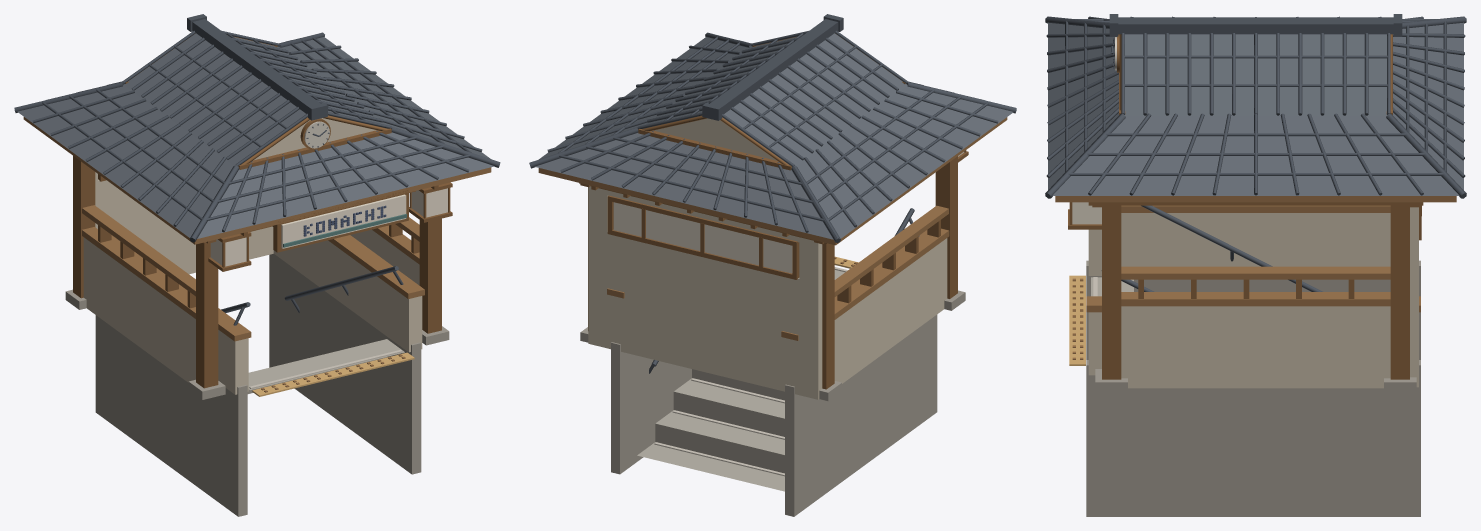
File: komachi-subway-station.glb
The picture shows the model from 3 angles, left to right: view 1: azimuth 30°, elevation 25°; view 2: azimuth 150°, elevation 25°; view 3: azimuth 270°, elevation 25°; orthographic projection. The views are drawn at different scales.
Visible parts, largest first — view 1: Kawara_Hip_And_Gable_Roof, Stairwell_Sides_And_Rails, Pavilion_Frame, Open_Descending_Stairs, Name_Board, Eaves_And_Ceiling, Station_Name_Lettering, Name_Board_Frame, Lamp_R, Lamp_L, Clock_Face, Lamp_R_Frame (+1 smaller); view 2: Kawara_Hip_And_Gable_Roof, Pavilion_Frame, Stairwell_Sides_And_Rails, Open_Descending_Stairs, Window_Band, Window_Frame, Eaves_And_Ceiling; view 3: Kawara_Hip_And_Gable_Roof, Stairwell_Sides_And_Rails, Pavilion_Frame, Eaves_And_Ceiling, Lamp_R.
Boxes of the visible parts, x1,y1,x2,y2 form: Kawara_Hip_And_Gable_Roof: (14,14,500,242); Stairwell_Sides_And_Rails: (95,235,424,516); Pavilion_Frame: (65,156,449,399); Open_Descending_Stairs: (247,339,404,393); Name_Board: (281,194,406,248); Eaves_And_Ceiling: (23,117,491,244); Station_Name_Lettering: (283,205,406,247); Name_Board_Frame: (273,190,408,252); Lamp_R: (411,188,447,217); Lamp_L: (210,237,246,266); Clock_Face: (300,118,330,149); Lamp_R_Frame: (409,182,452,222); Kawara_Hip_And_Gable_Roof: (529,14,1016,243); Pavilion_Frame: (580,156,965,400); Stairwell_Sides_And_Rails: (607,208,937,516); Open_Descending_Stairs: (637,267,847,491); Window_Band: (613,202,792,273); Window_Frame: (607,195,799,279); Eaves_And_Ceiling: (538,117,1007,245); Kawara_Hip_And_Gable_Roof: (1045,14,1466,198); Stairwell_Sides_And_Rails: (1086,205,1420,516); Pavilion_Frame: (1069,205,1418,392); Eaves_And_Ceiling: (1055,196,1456,207); Lamp_R: (1072,202,1101,224).
Bounding box in the file's own units: 0.8802 × 1.03 × 0.8821.
